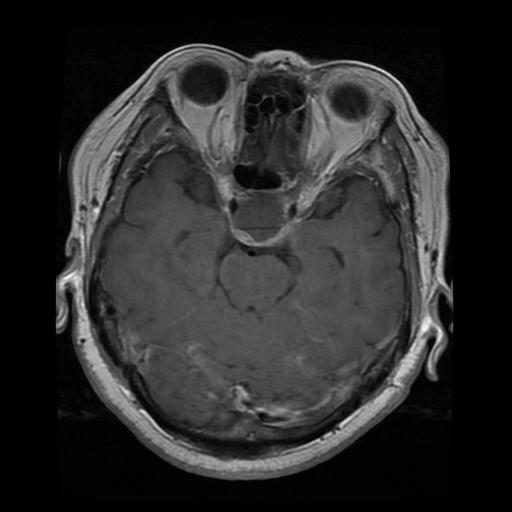Tumour-Pituitary: (217, 189, 304, 246)
